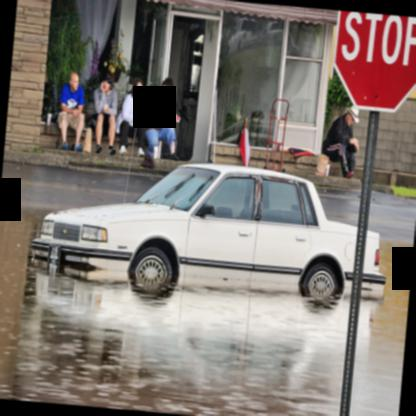handbag: (141, 155, 155, 168)
